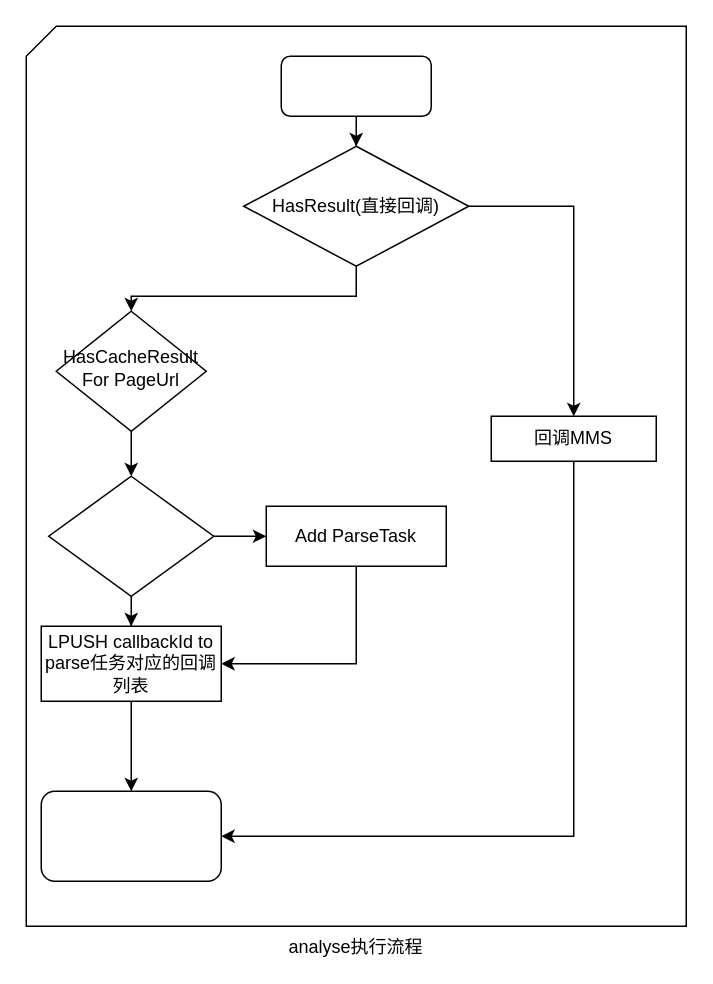
Image size: 713x984. Some labels were removed from this diagram. Here are the shapes that lost their labels. From the top down, the box of each, then its label:
(280, 55, 431, 116): StartAnalyse
(47, 475, 214, 596): Has exsisted ParseTask?
(40, 790, 221, 881): End,RemoveTask
